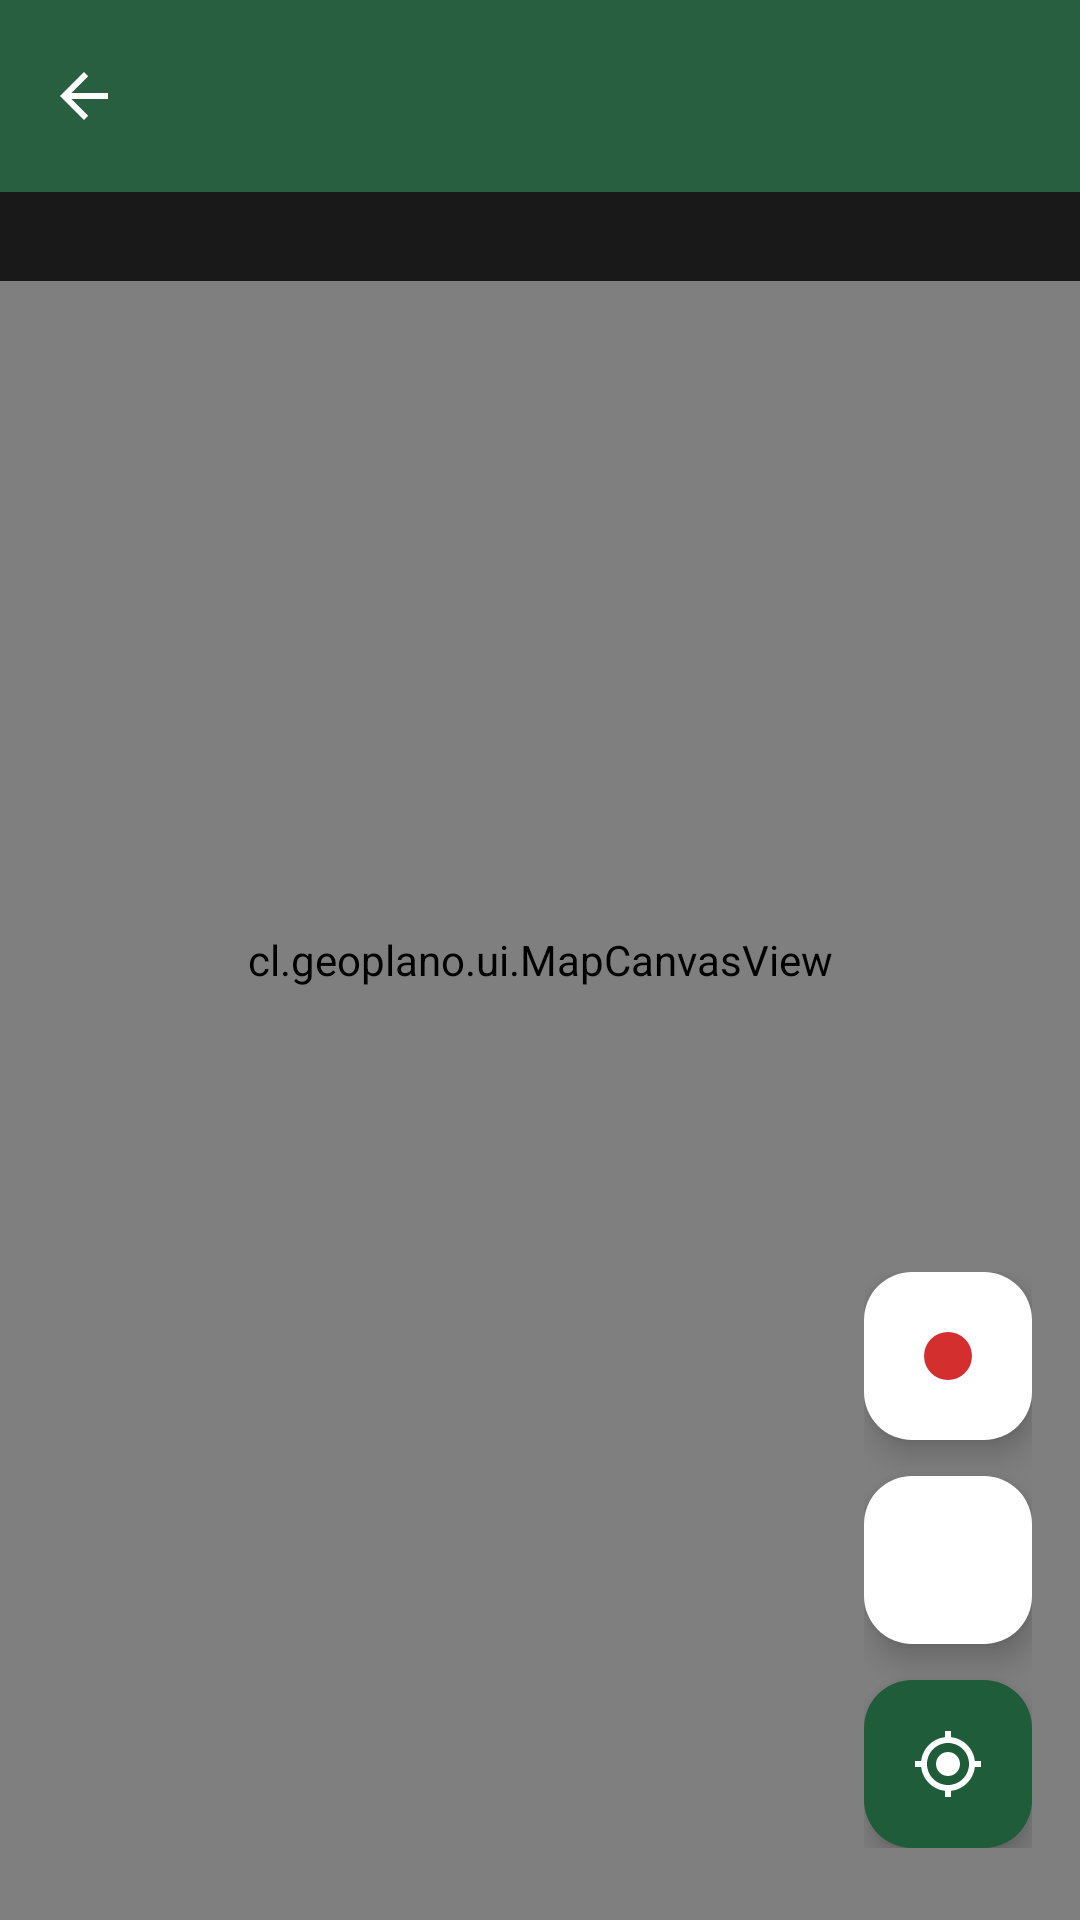

Named icons in this screenshot (1080×1920) and their centers, (x,y):
Centrar en mi ubicación: (948,1764)
Grabar track: (948,1356)
